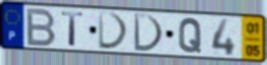4: (209, 17, 239, 58)
B: (25, 7, 58, 48)
D: (97, 10, 131, 51), (132, 12, 165, 54)
Q: (177, 17, 204, 54)
T: (60, 11, 86, 48)
